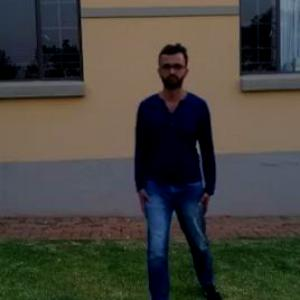follow: (132, 46, 211, 299)
